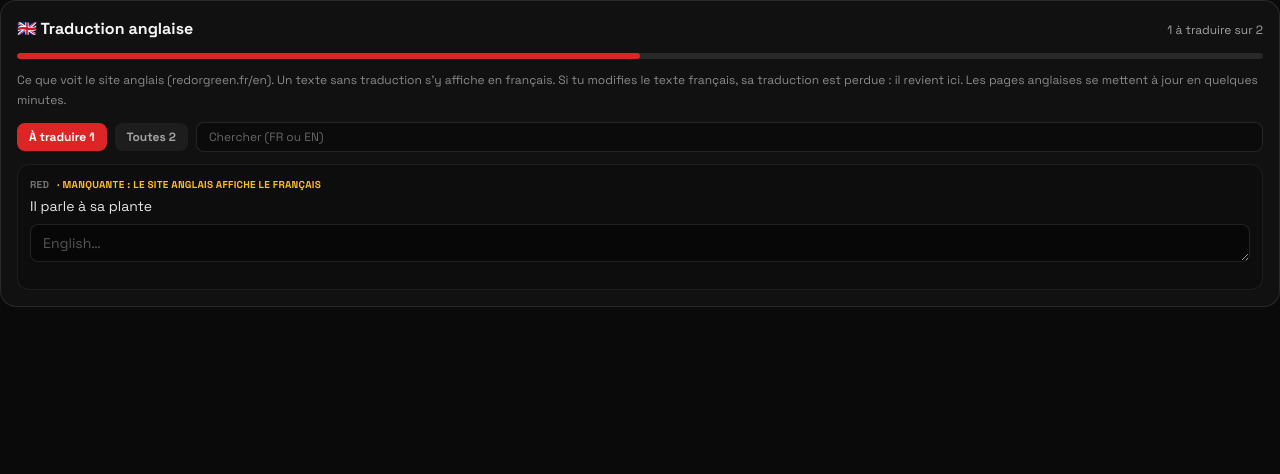
Scenario: ZoneTraduction › montre d’abord ce qui manque, et enregistre l’anglais saisi
Expected: the text "1 à traduire sur 2" is shown, top-left (1167, 22), bottom-right (1263, 38)
Expected: the text "Il porte des crocs" is not shown
Type "He talks to his plant" into the text box named "Anglais de : Il parle à sa plante".
click(640, 243); type("He talks to his plant")  # box top-left (30, 224), bottom-right (1250, 262)
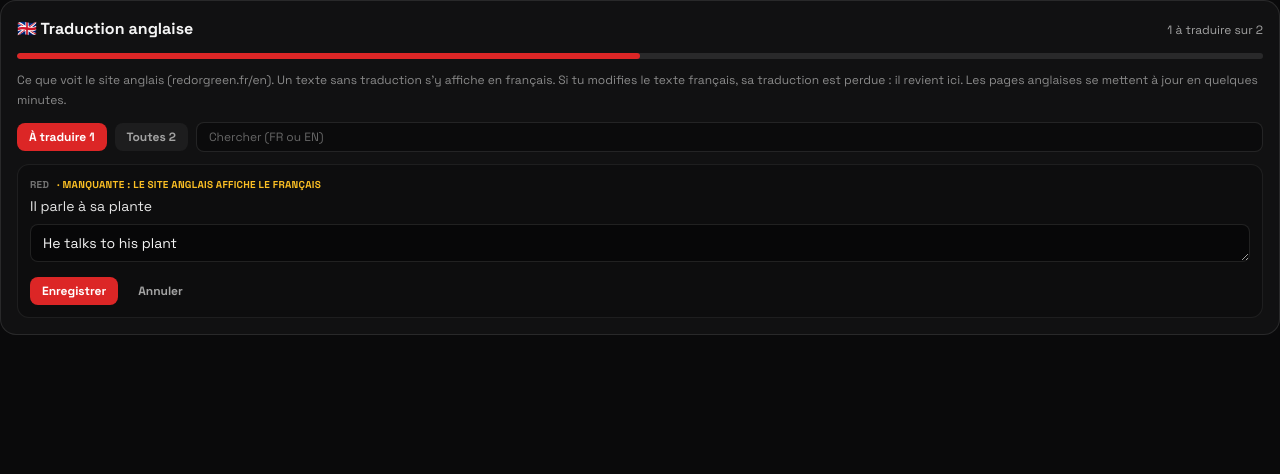
Click the button "Enregistrer".
click(74, 291)  # box top-left (30, 277), bottom-right (118, 305)
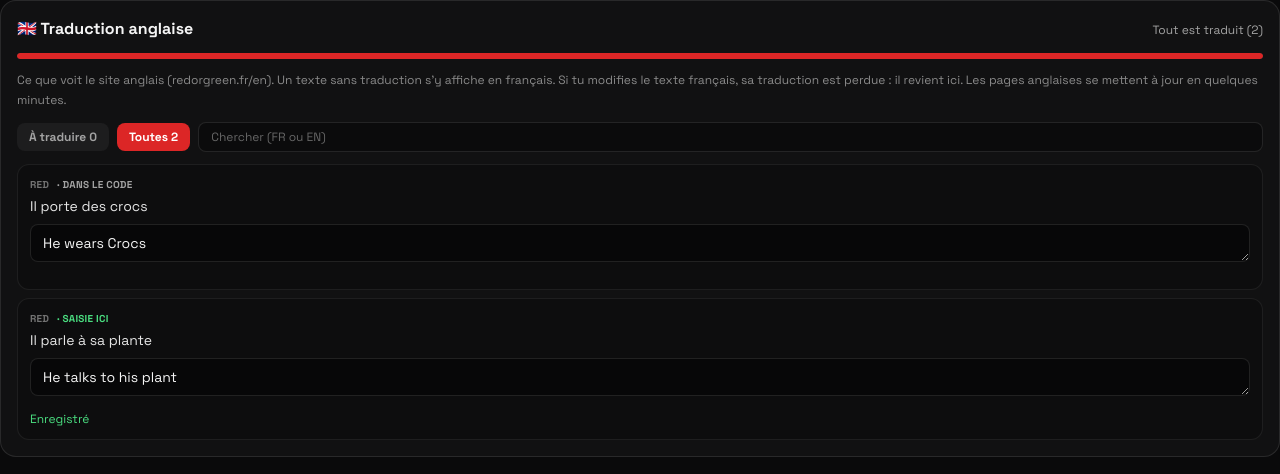
Expected: the text "Enregistré" is shown, top-left (30, 411), bottom-right (89, 427)
Expected: the text "Tout est traduit (2)" is shown, top-left (1152, 22), bottom-right (1263, 38)
